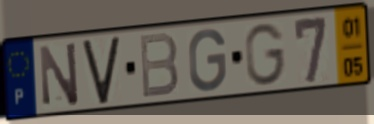7: (292, 14, 331, 86)
B: (137, 30, 180, 101)
G: (243, 21, 288, 88), (187, 26, 228, 94)
N: (37, 39, 82, 109)
V: (80, 33, 122, 107)
